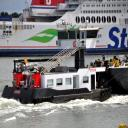tugboat: (2, 19, 114, 110)
